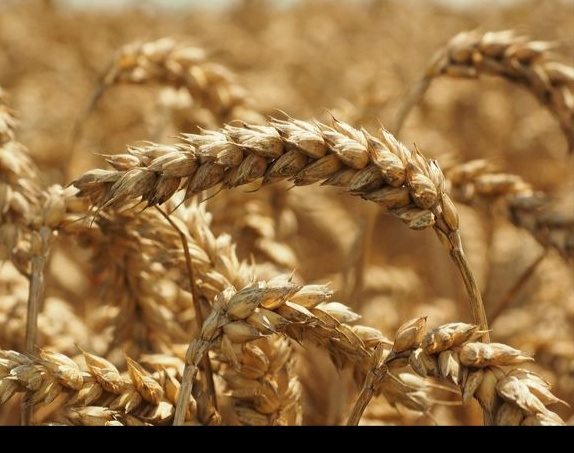wheat: (189, 275, 556, 425), (49, 113, 460, 246)
